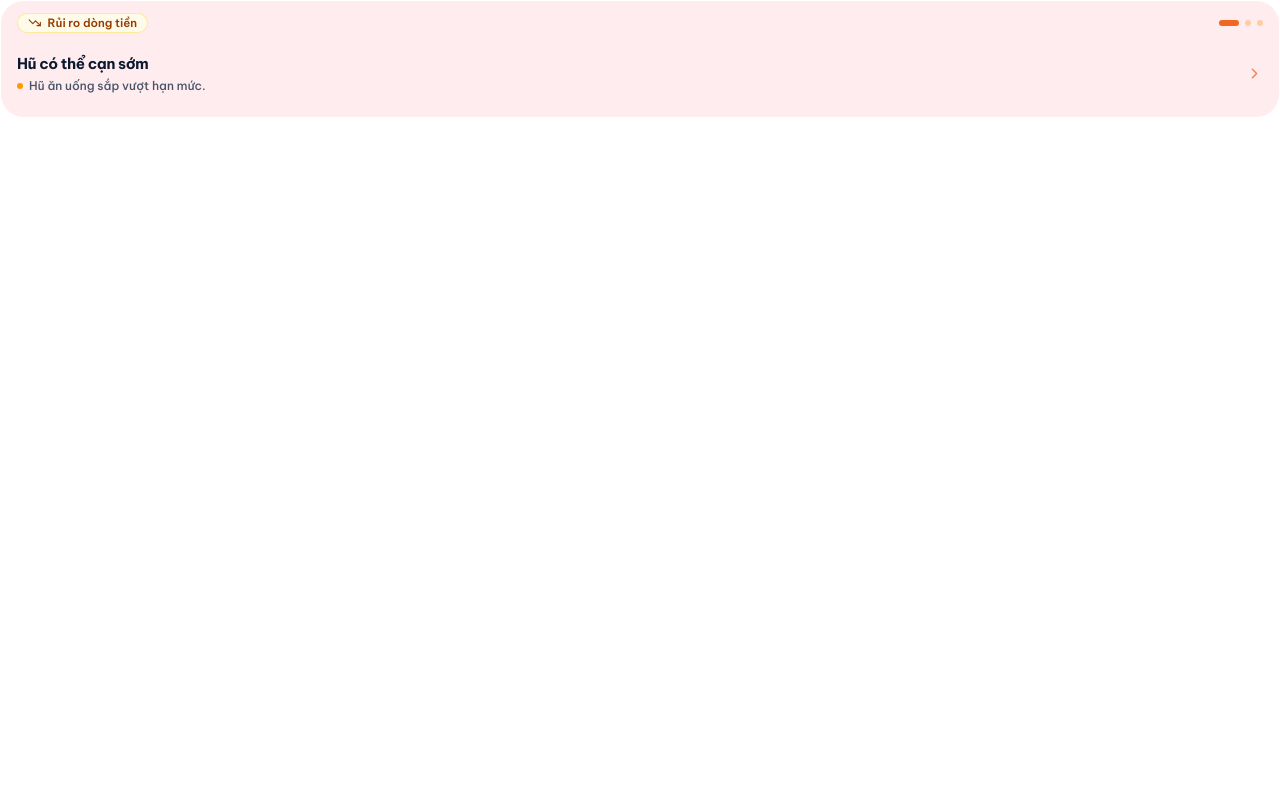
Test: HomeInsightWidget Pure 3-Insight Carousel › opens insight detail sheet with category pill, impactLine, and metric box
The width and height of the screenshot is (1280, 800).
Click the button "Hũ có thể cạn sớm Hũ ăn uống sắp vượt hạn mức.".
click(57, 65)  # box [1,37,1279,117]
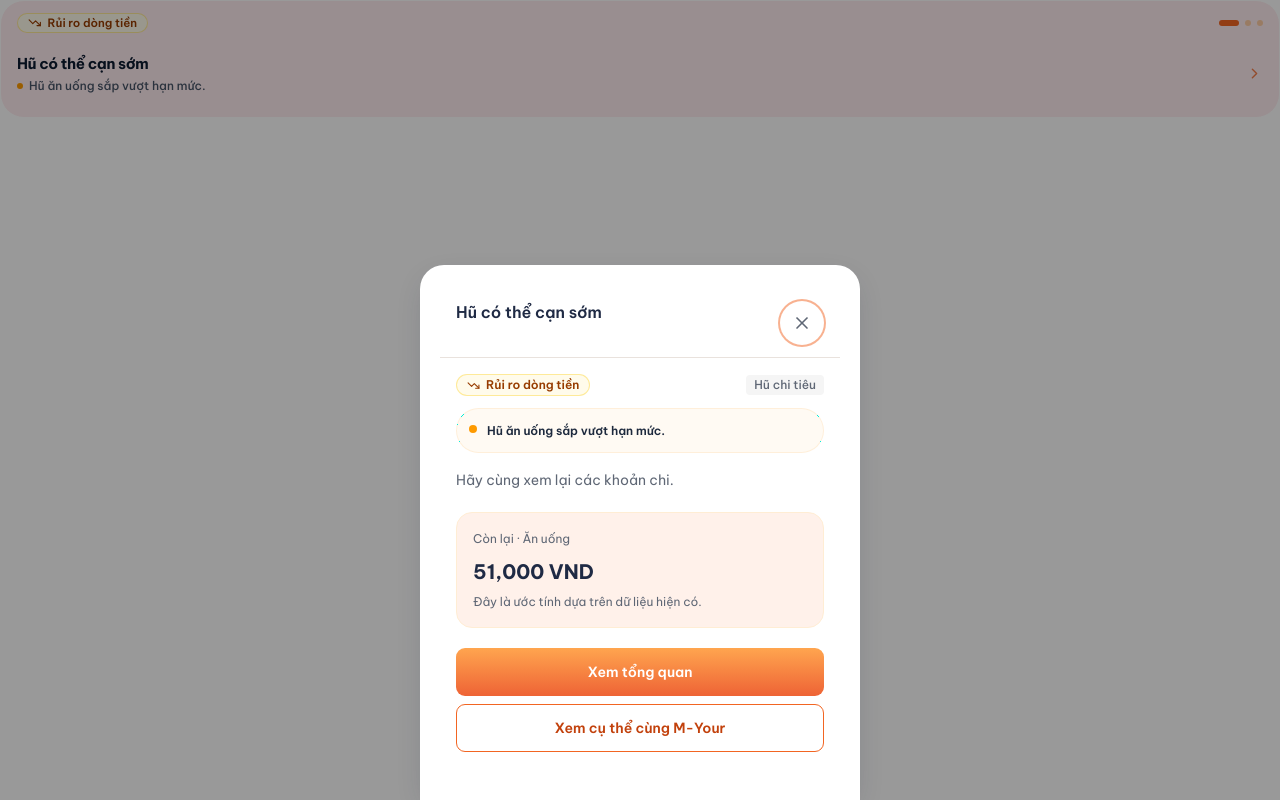
Expected: the dialog is shown, [420,265,860,799]
Expected: the text "Hãy cùng xem lại các khoản chi." is shown, [456,471,674,489]
